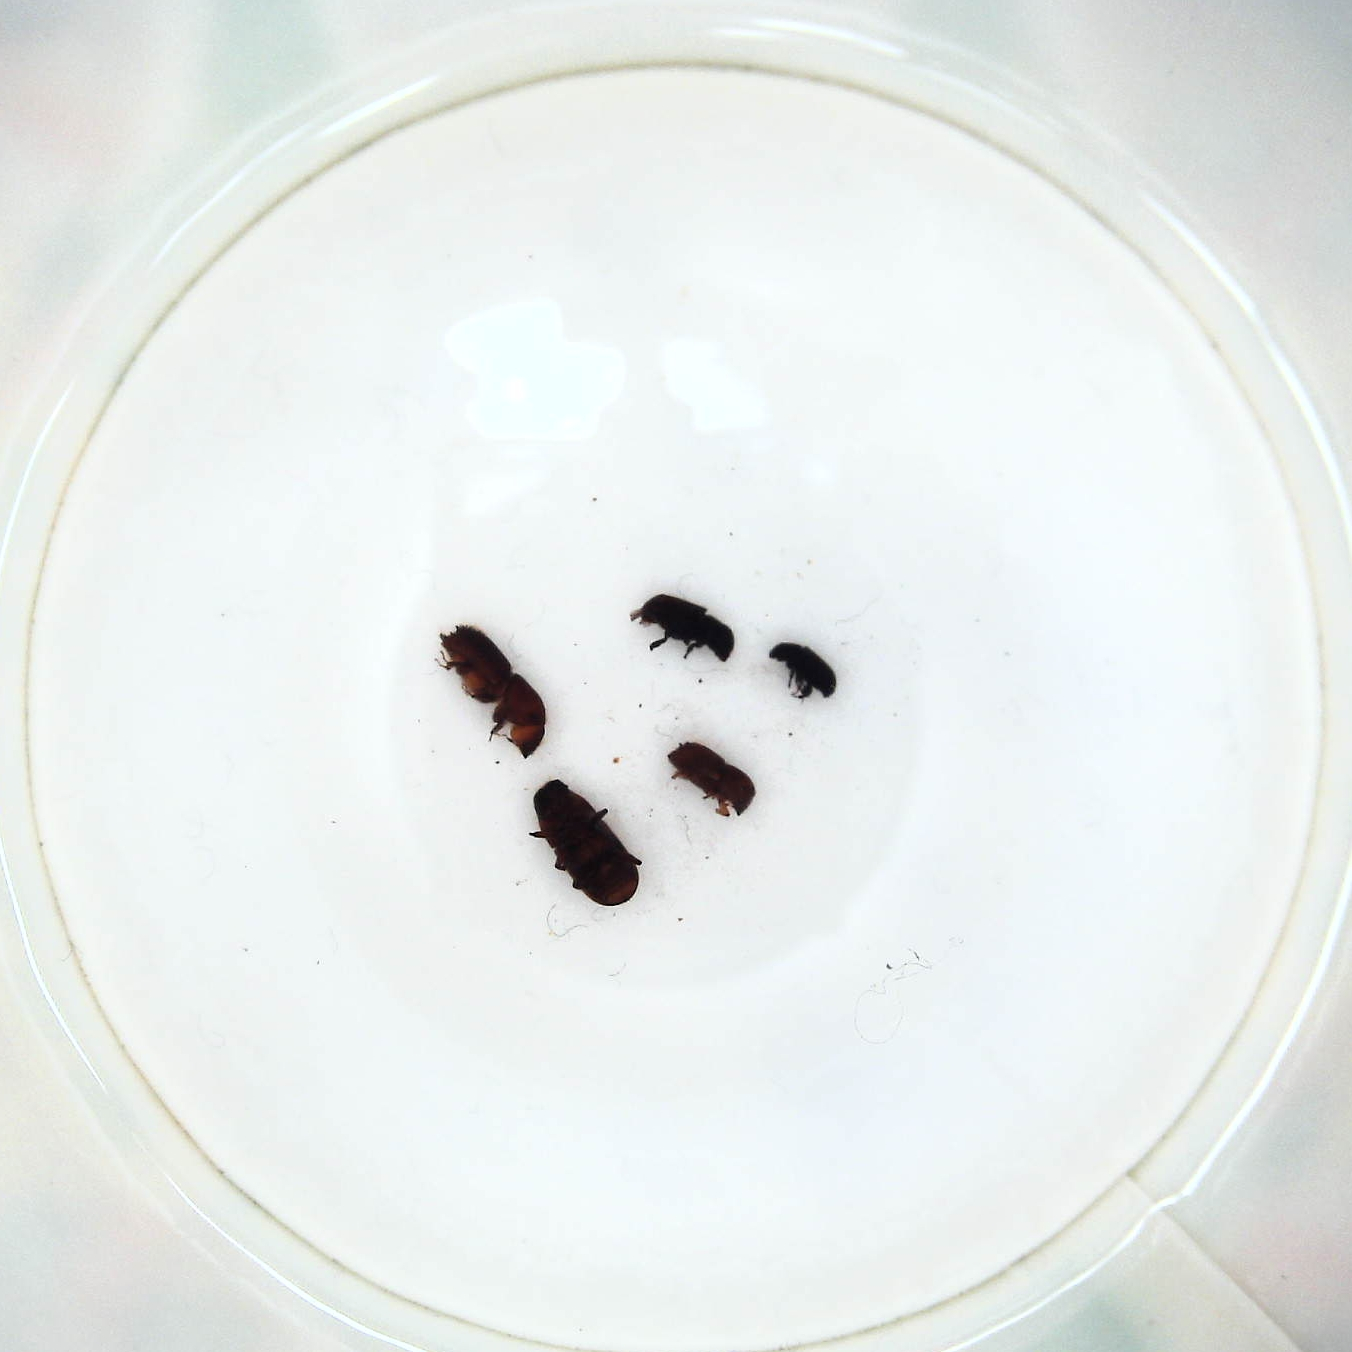Boerner: (437, 618, 552, 760)
Leconte: (525, 774, 648, 912)
armandi: (617, 589, 742, 674)
coleoptera: (759, 638, 839, 706)
linnaeus: (654, 738, 759, 823)
